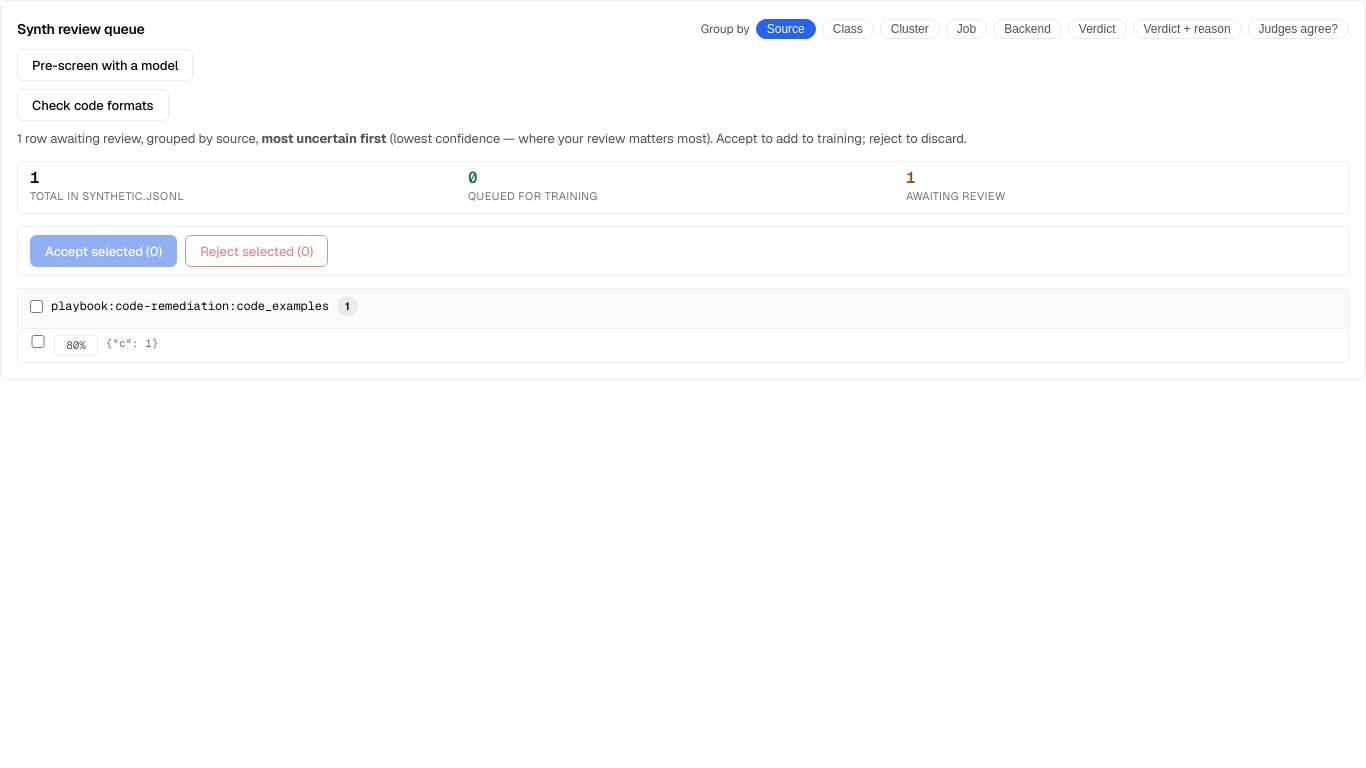
Test case: SynthReviewQueue code format re-check › shows the dry-run count, then rejects only after the confirm
Click the button with test id "synth-review-queue-format-check".
click(93, 105)  # box [17,89,168,121]
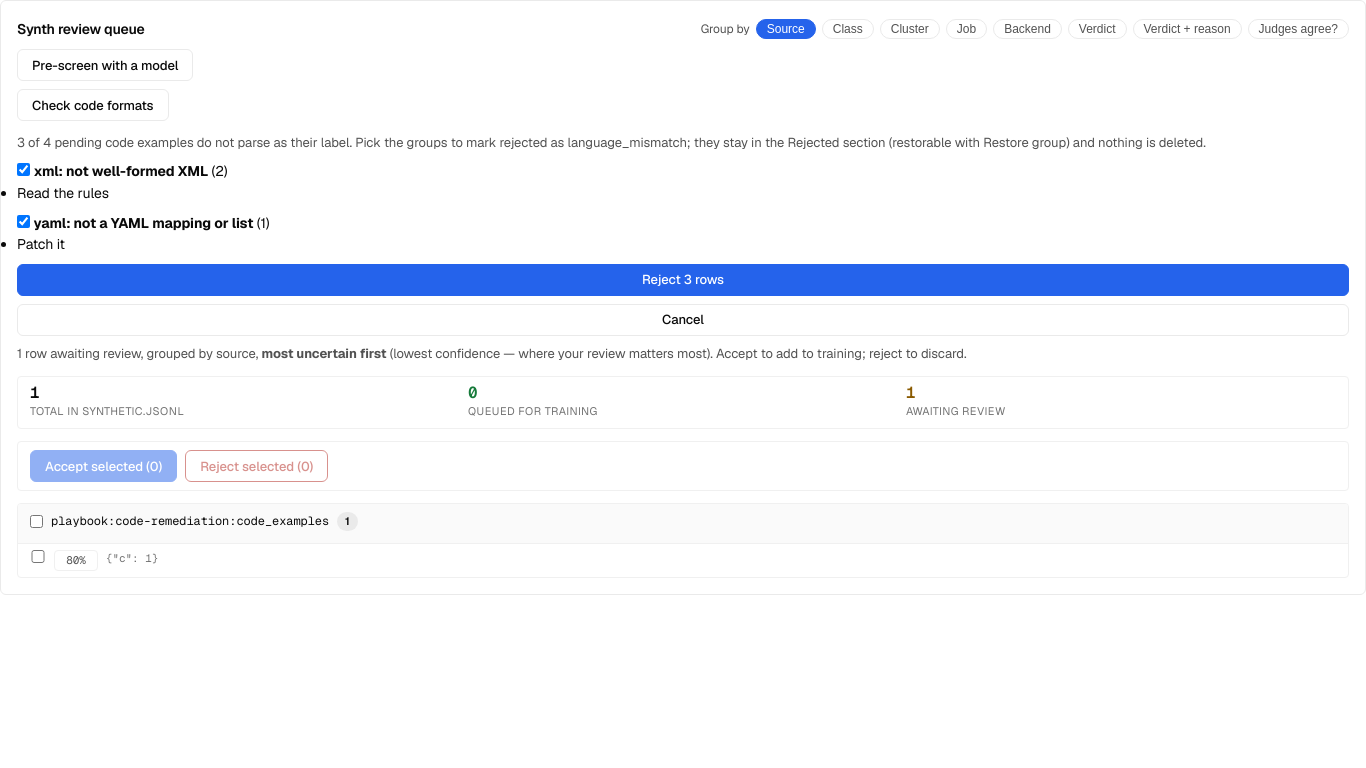
Expected: the element with test id "synth-review-queue-format-confirm" shows "3 of 4 pending code examples", [17,129,1349,336]
Expected: the element with test id "synth-review-queue-format-confirm" shows "xml: not well-formed XML", [17,129,1349,336]
Click the checkbox with test id "synth-review-queue-format-pick-yaml|not a YAML mapping or list".
click(24, 221)  # box [17,214,30,228]
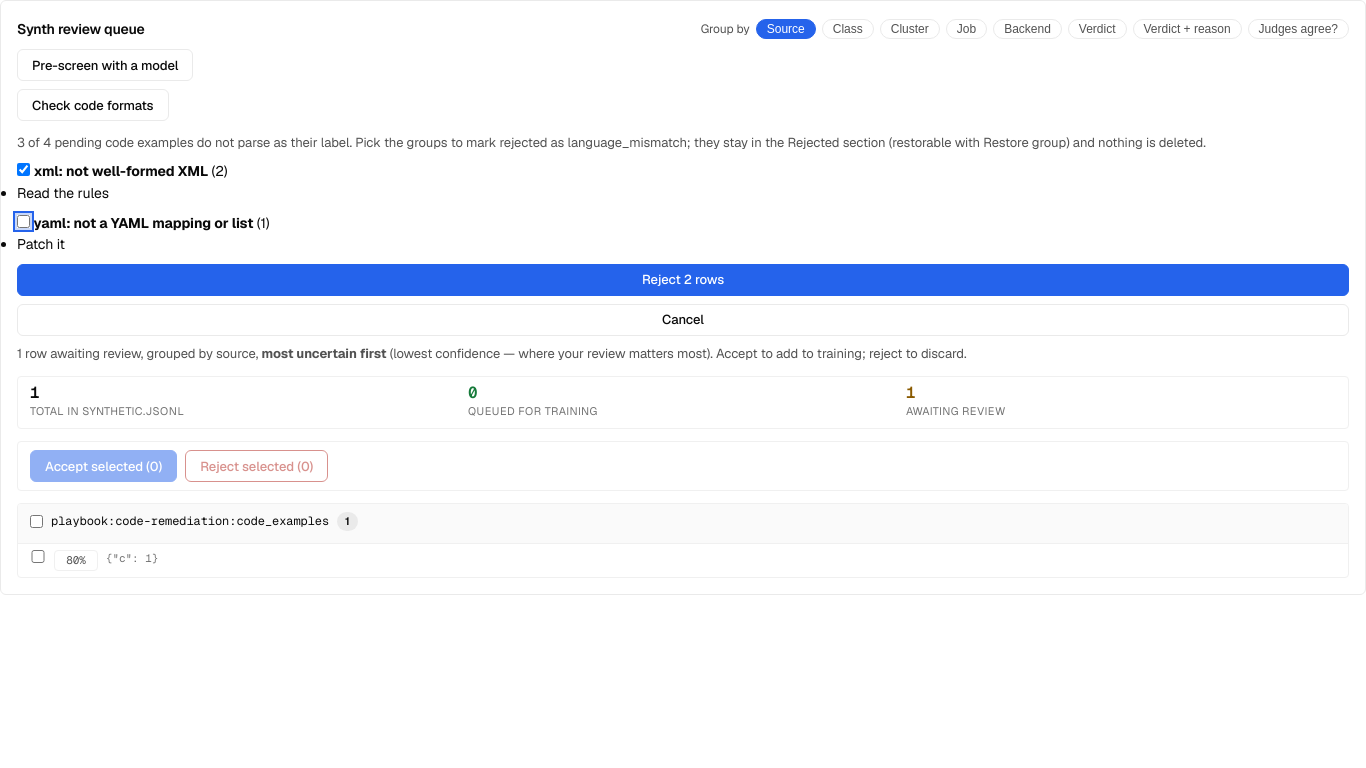
Click the button with test id "synth-review-queue-format-apply".
click(683, 280)  # box [17,264,1349,296]
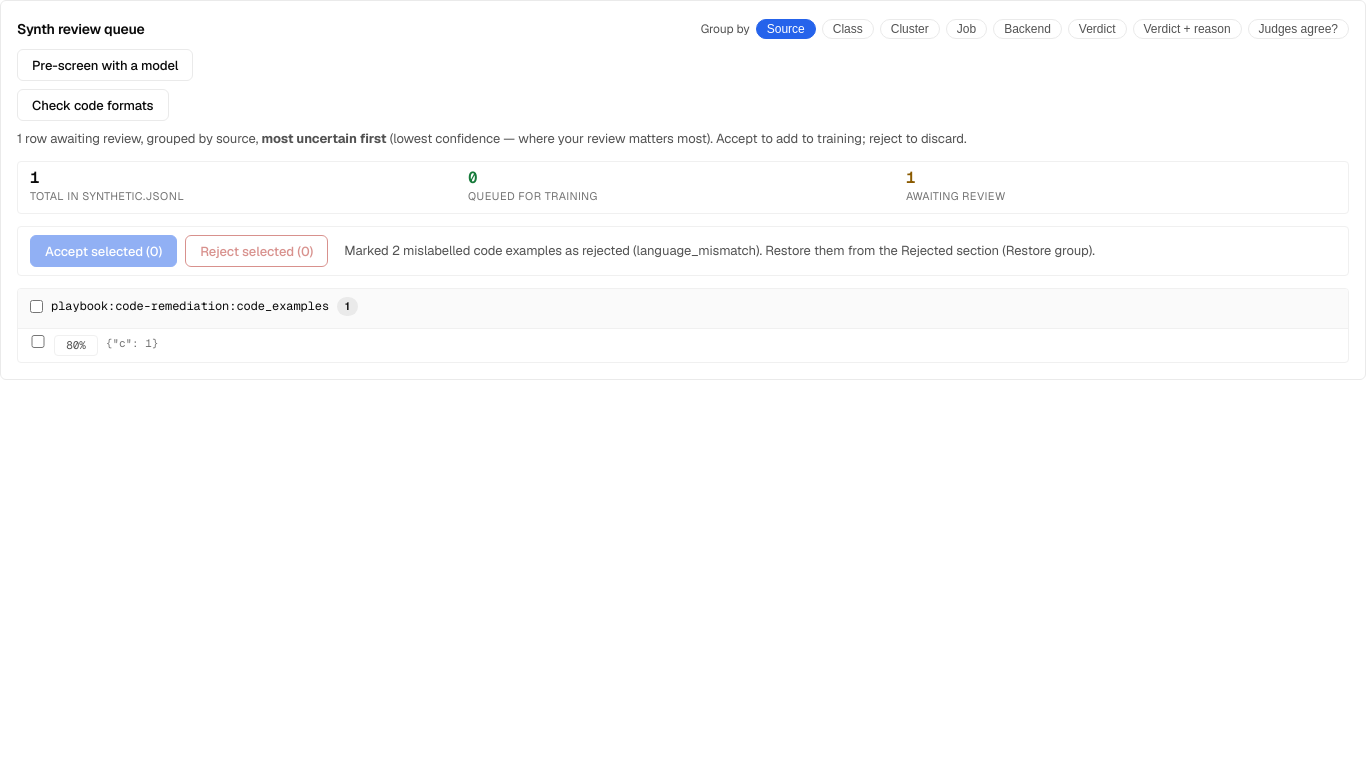
Expected: the element with test id "synth-review-queue-format-confirm" is gone
